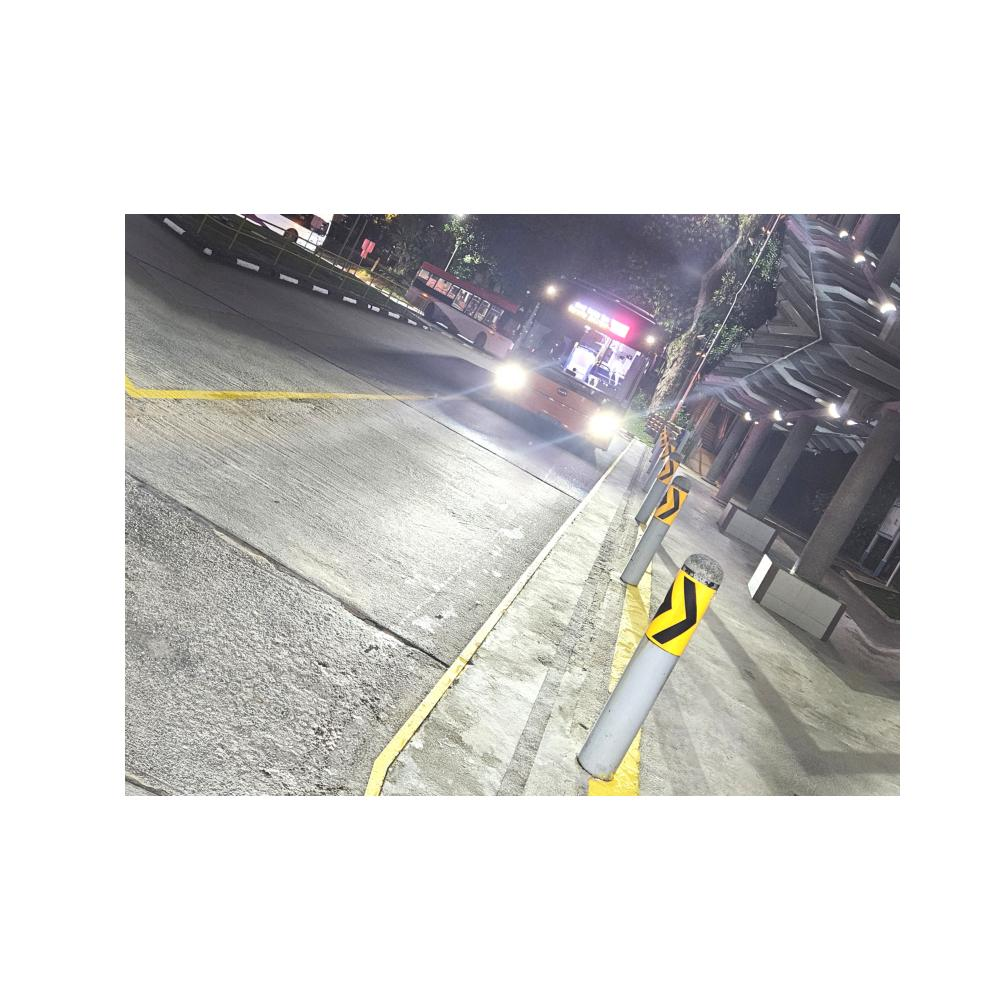bus: (496, 274, 662, 458), (405, 250, 528, 359), (229, 212, 336, 257)
